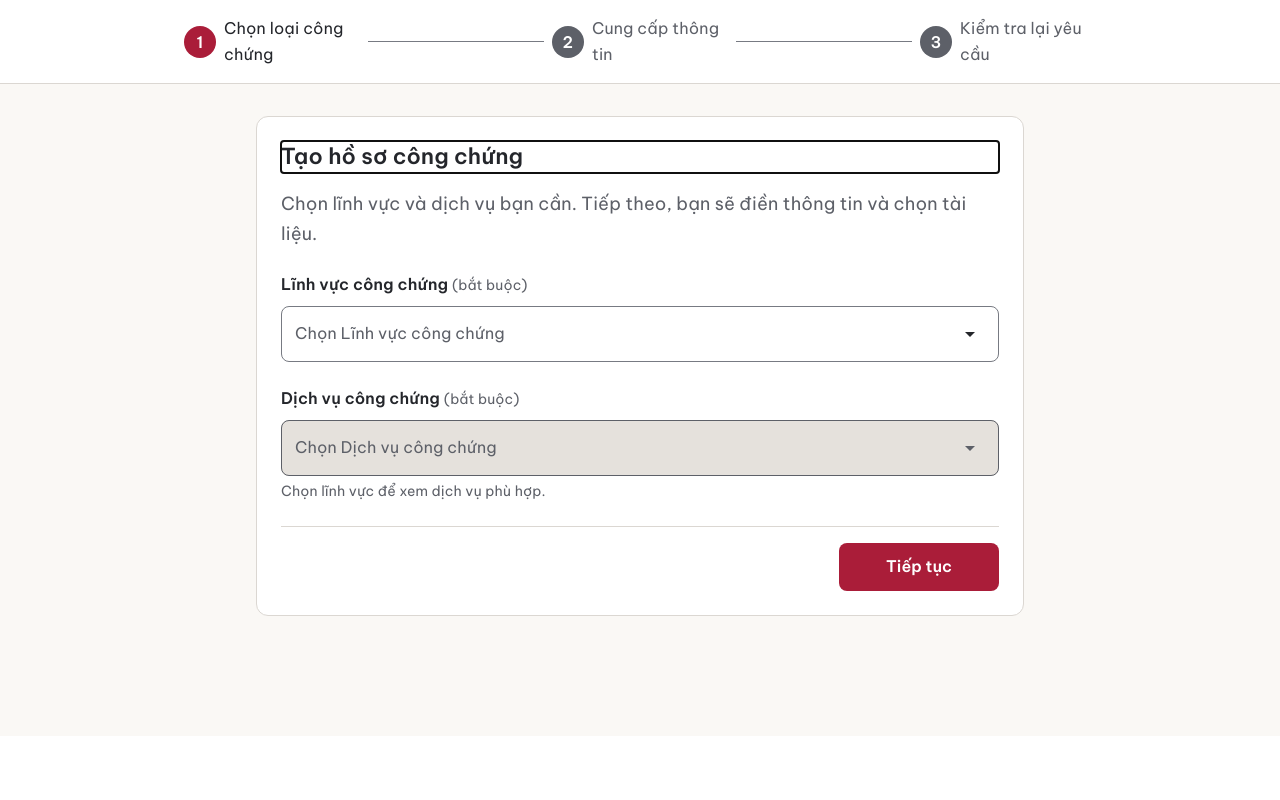
Test: an error-envelope read stays recoverable and retries the same service method
The width and height of the screenshot is (1280, 800).
Press the mouse on the dropdown labelled "Lĩnh vực công chứng": coordinates (625, 334) [290, 315, 960, 353]
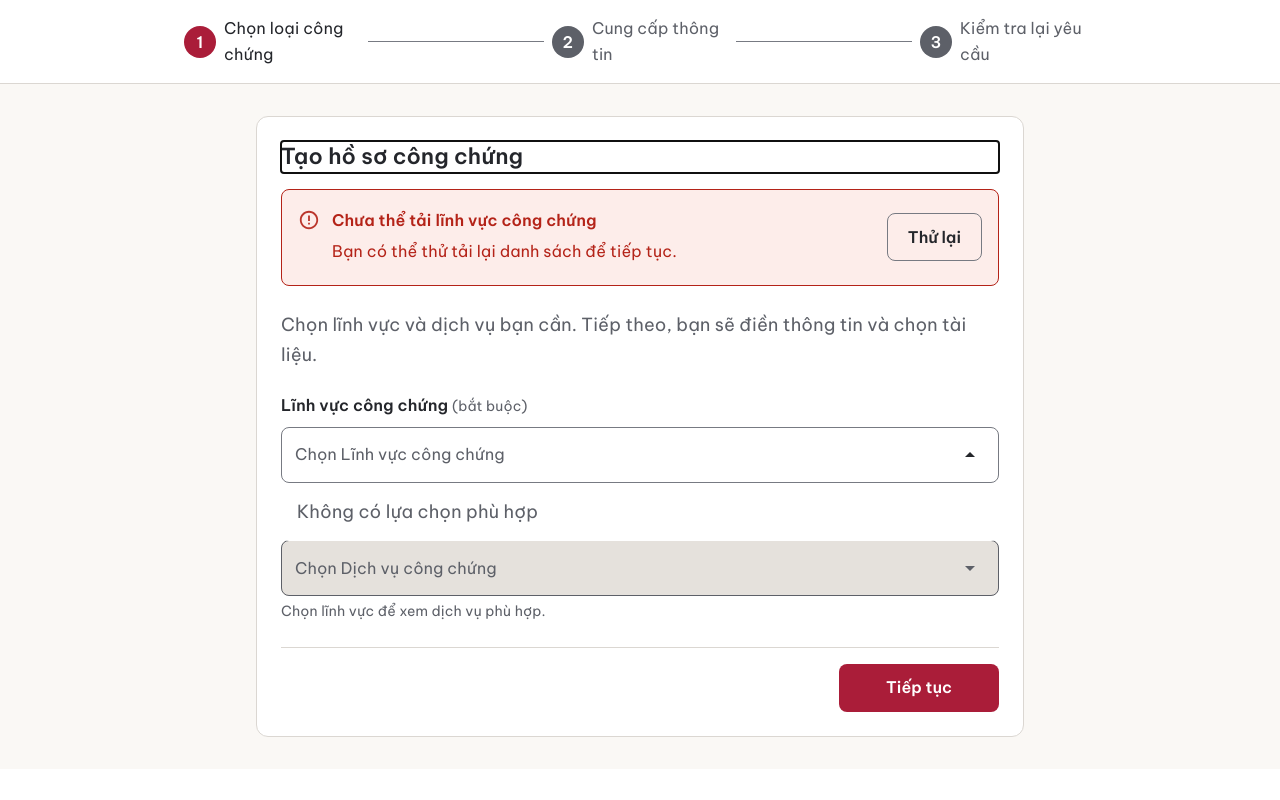
Now the text "Chưa thể tải lĩnh vực công chứng" is shown, box [332, 210, 597, 230]
Press Escape in the dropdown labelled "Lĩnh vực công chứng", box [290, 436, 960, 474]
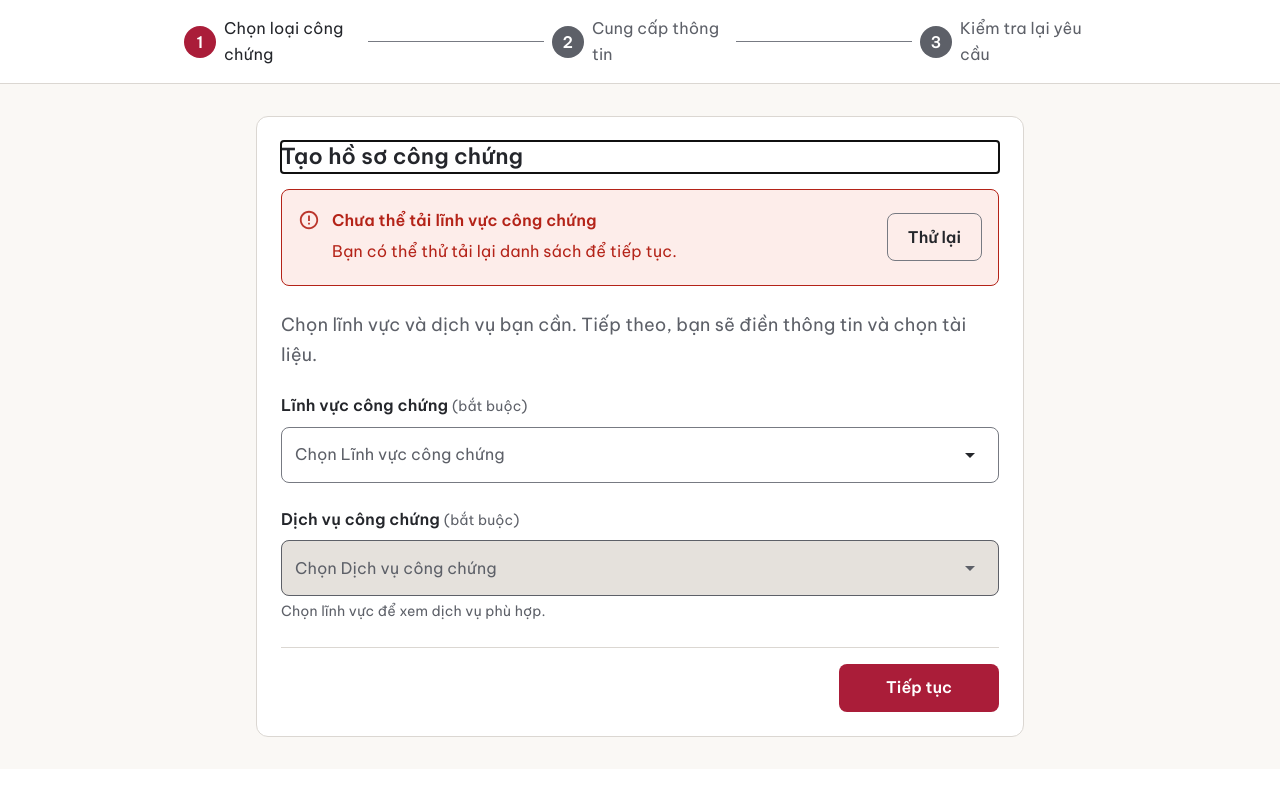
Click the button "Thử lại": coordinates (934, 238) [887, 214, 982, 262]
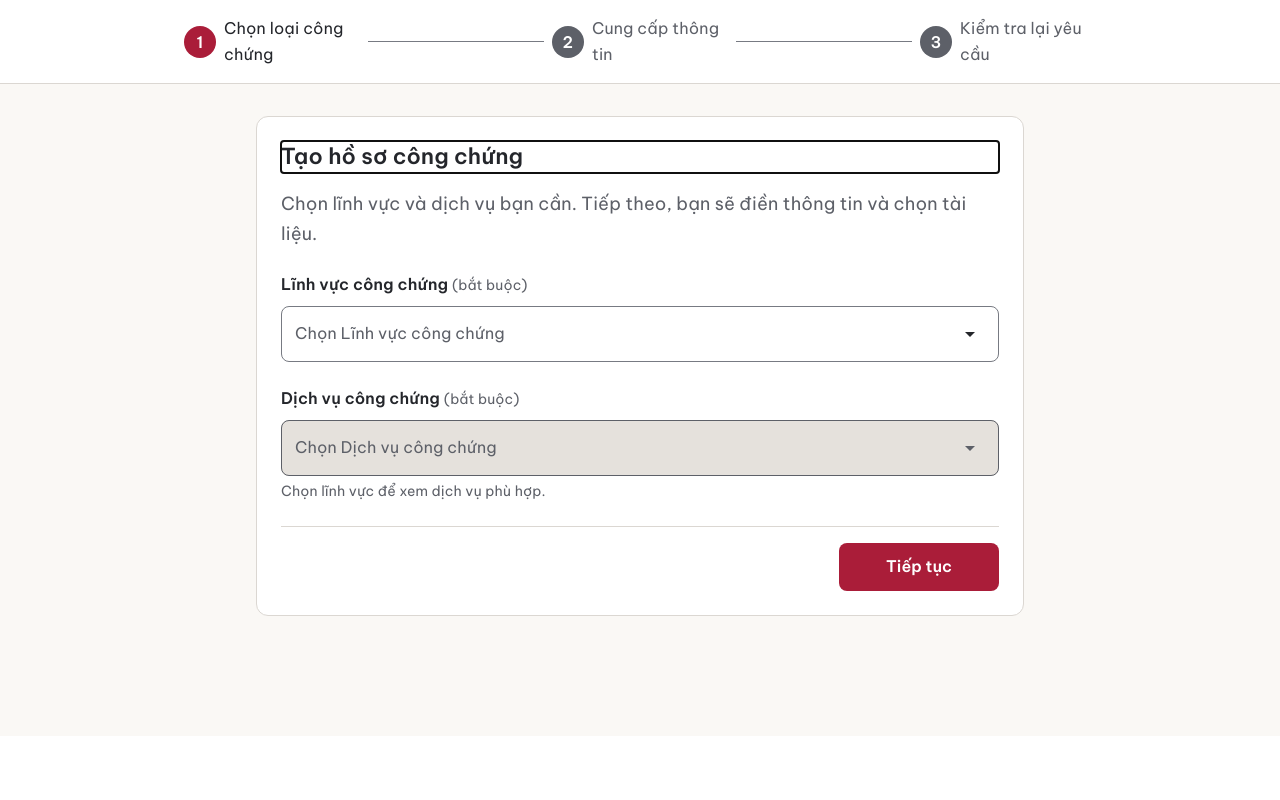
Now the text "Chưa thể tải lĩnh vực công chứng" is gone
